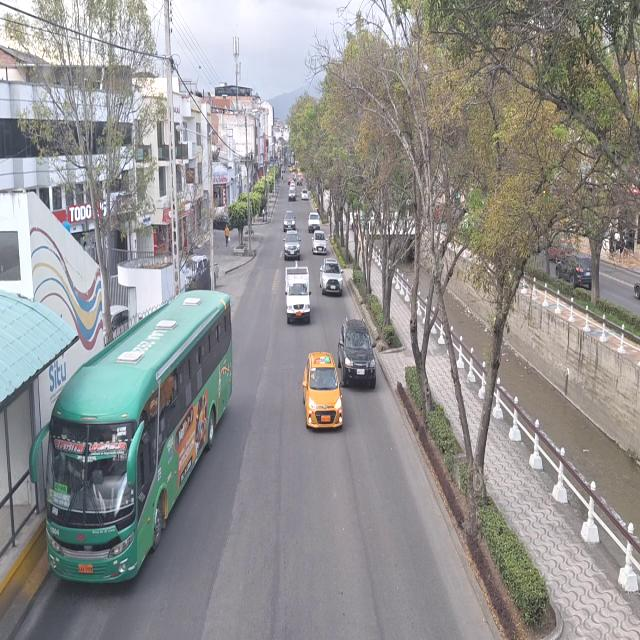BUS: (45, 351, 173, 589)
CMT: (285, 262, 311, 323)
